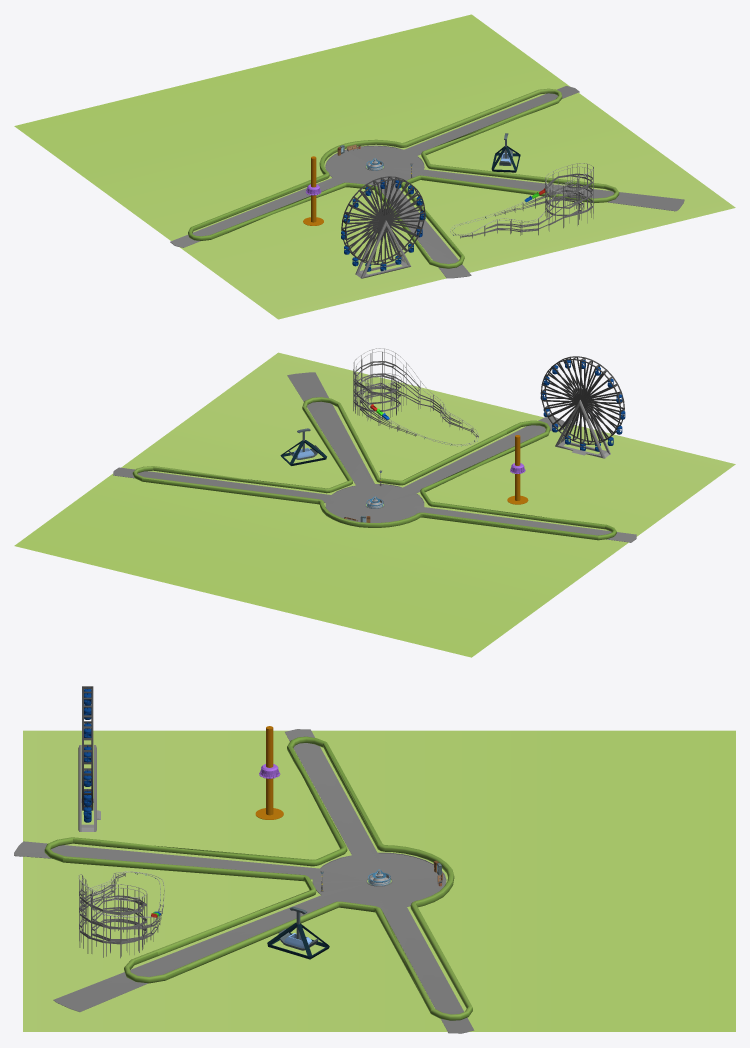
The model's file is Park.fbx.
3 views of the same model, one above another, from view 1: azimuth 30°, elevation 25°; view 2: azimuth 150°, elevation 25°; view 3: azimuth 270°, elevation 25° (orthographic). The views are drawn at different scales.
Parts seen in each view (by area): view 1: Плоскость, Цилиндр.019, Куб.052, Цилиндр.002, Куб.005, Цилиндр.001, Цилиндр.006, ТраекторияNurbs; view 2: Плоскость, Цилиндр.019, Куб.052, Цилиндр.002, Куб.005, Цилиндр.001, Цилиндр.006, ТраекторияNurbs; view 3: Плоскость, Цилиндр.019, Куб.052, Куб.005, Цилиндр.002, Цилиндр.003, Цилиндр.006, Цилиндр.001, Куб.002, ТраекторияNurbs.
Boxes of the visible parts, x1,y1,x2,y2 form: Плоскость: (14,14,735,319); Цилиндр.019: (170,86,684,278); Куб.052: (188,88,619,268); Цилиндр.002: (341,176,425,264); Куб.005: (460,164,593,238); Цилиндр.001: (355,220,411,278); Цилиндр.006: (341,180,425,271); ТраекторияNurbs: (450,163,593,235); Плоскость: (14,352,735,657); Цилиндр.019: (113,372,636,542); Куб.052: (132,397,616,540); Цилиндр.002: (541,356,624,444); Куб.005: (353,349,478,437); Цилиндр.001: (555,400,610,458); Цилиндр.006: (540,360,625,451); ТраекторияNurbs: (353,348,478,446); Плоскость: (23,730,735,1031); Цилиндр.019: (14,729,474,1033); Куб.052: (44,736,472,1020); Куб.005: (79,872,163,958); Цилиндр.002: (82,686,93,810); Цилиндр.003: (255,726,283,819); Цилиндр.006: (83,687,91,822); Цилиндр.001: (78,745,100,831); Куб.002: (267,922,329,959); ТраекторияNurbs: (78,871,164,917).
Size of the model in its own units: 9728 by 1850 by 9765.
1 material, 1 textured.
